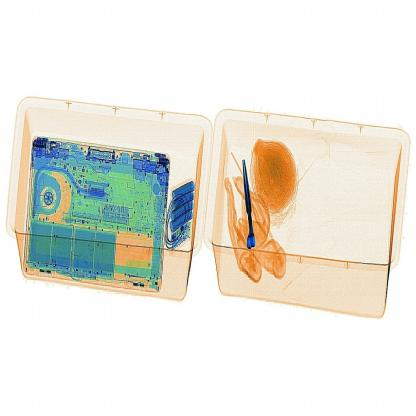gun: (230, 143, 271, 272)
